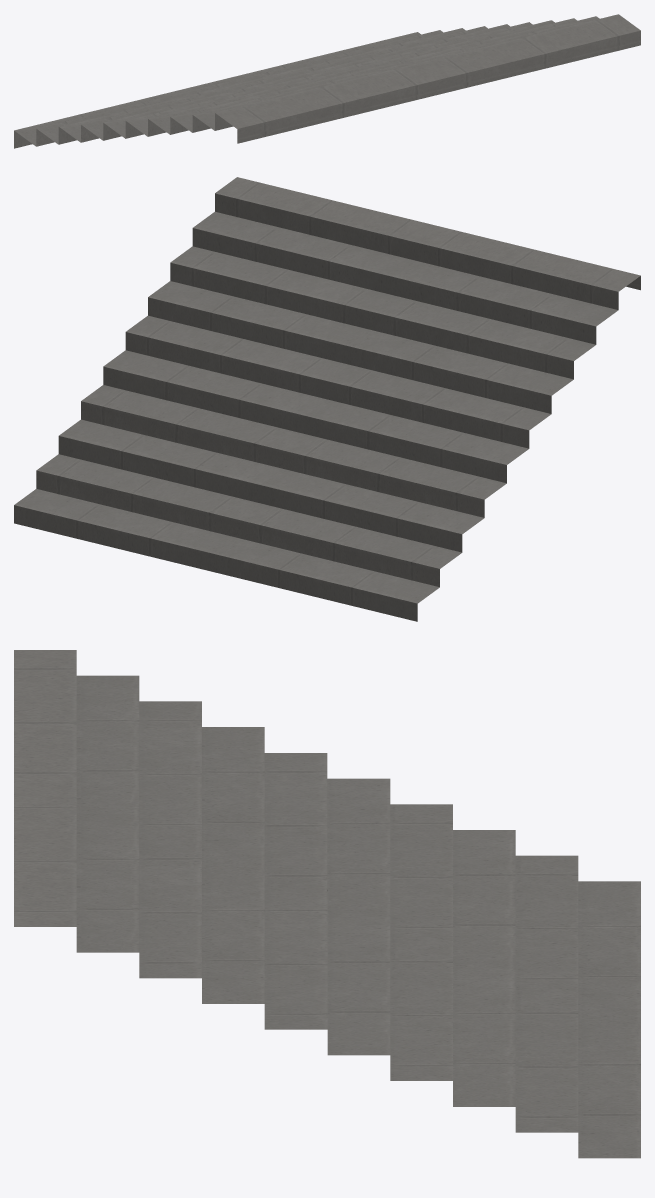
File: BilldingStair_A.fbx
The picture shows the model from 3 angles, top to bottom: view 1: azimuth 30°, elevation 25°; view 2: azimuth 150°, elevation 25°; view 3: azimuth 270°, elevation 25°; orthographic projection. The views are drawn at different scales.
Visible parts, largest first — view 1: BilldingStair_A; view 2: BilldingStair_A; view 3: BilldingStair_A.
Boxes of the visible parts, left/top/right/bottom form: BilldingStair_A: left=14, top=14, right=640, bottom=148; BilldingStair_A: left=14, top=177, right=640, bottom=621; BilldingStair_A: left=14, top=650, right=640, bottom=1158.
Size of the model in its own units: 600 by 260 by 575.
1 material, 1 textured.
